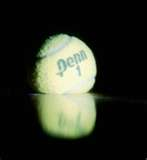tennis ball: (33, 33, 99, 94)
